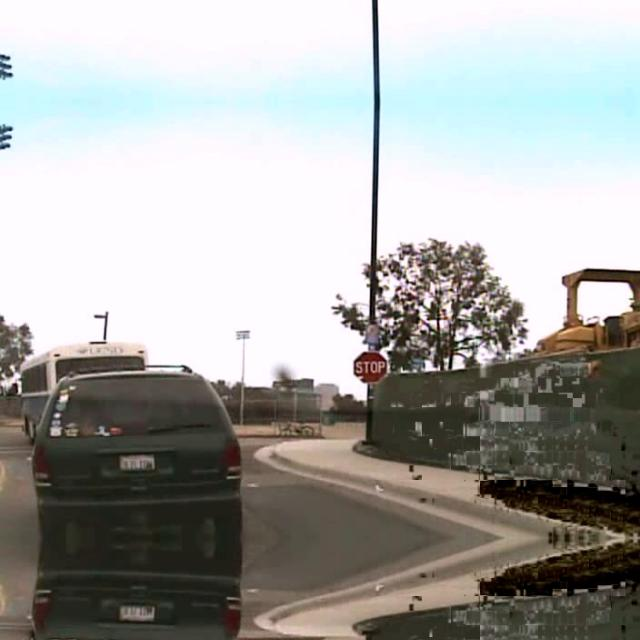stop: (352, 349, 386, 383)
